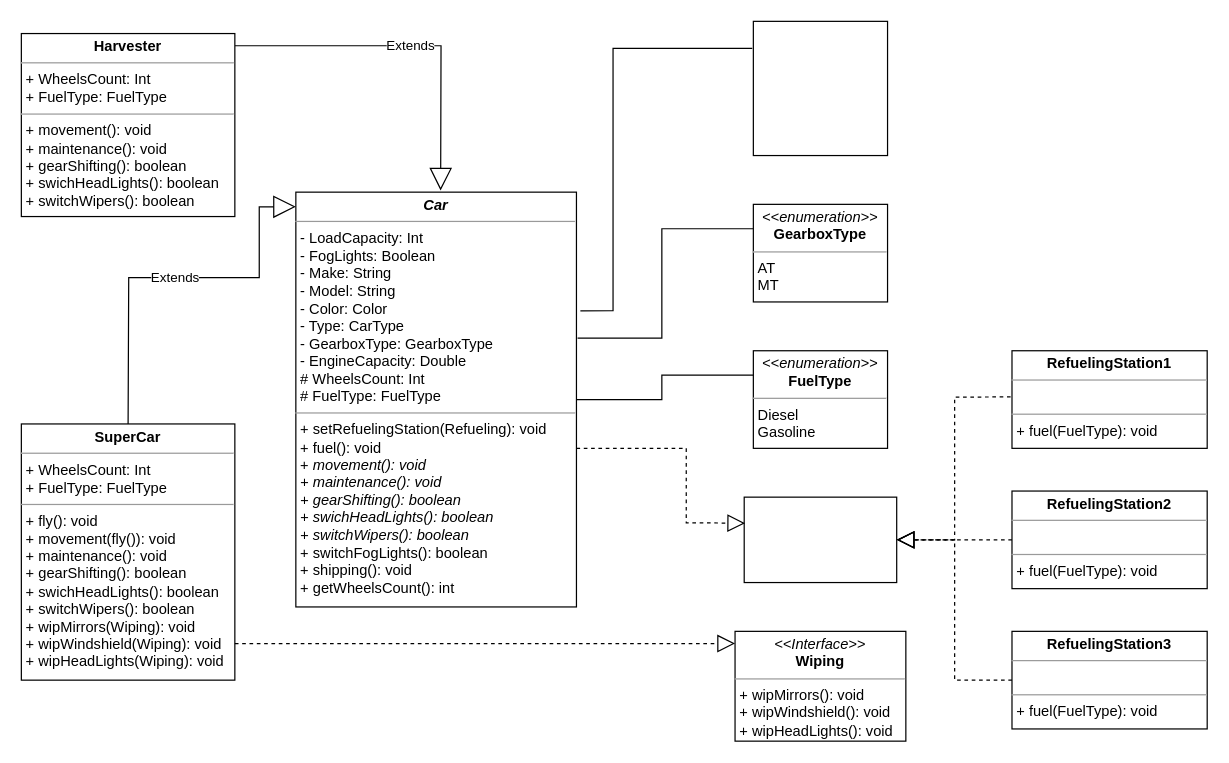
This 1229x763 diagram has some shape labels left out. Each missing label, with the centre of its shape:
"<<enumeration>> CarType Sedan Hatchback Pickup Sport" belongs at pixel 820 88.
"<<Interface>> Refueling + fuel(FuelType): void" belongs at pixel 820 539.
